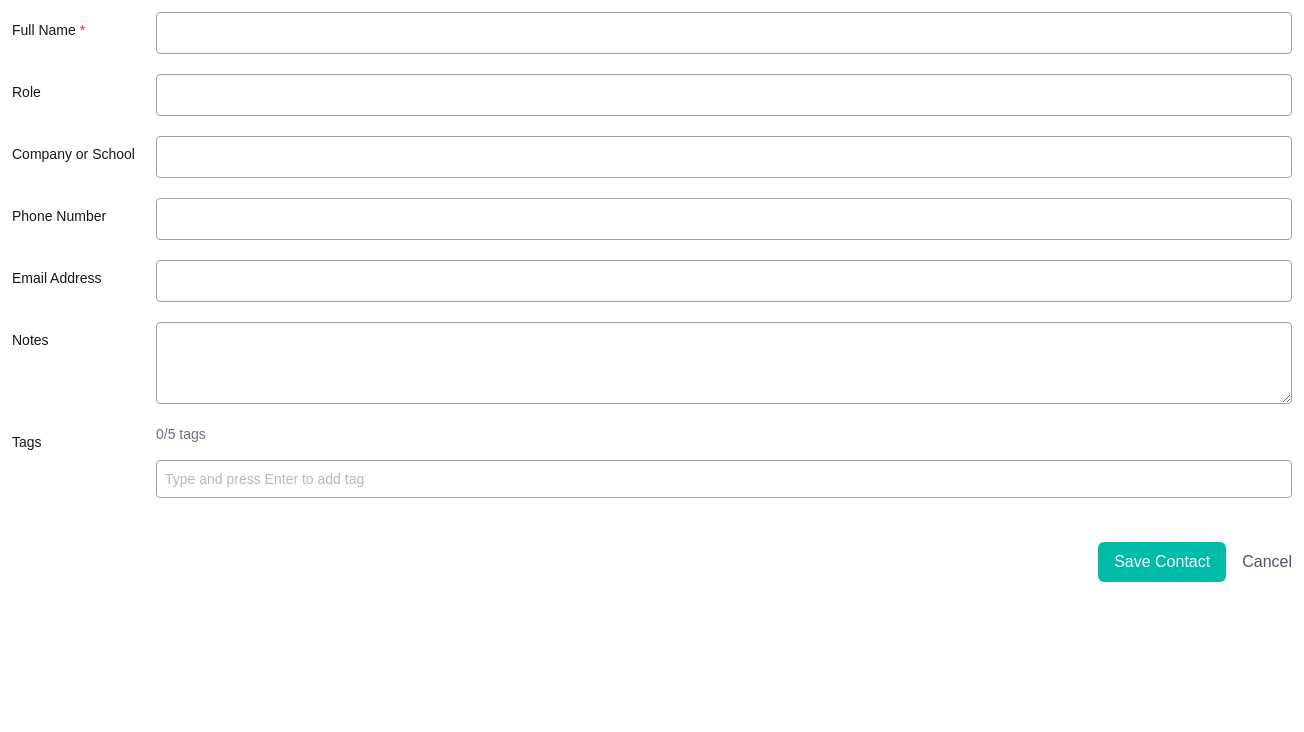
ContactForm › shows validation errors on empty submit
The width and height of the screenshot is (1304, 732).
Click the button "Save Contact": click(1162, 562) [1098, 542, 1226, 582]
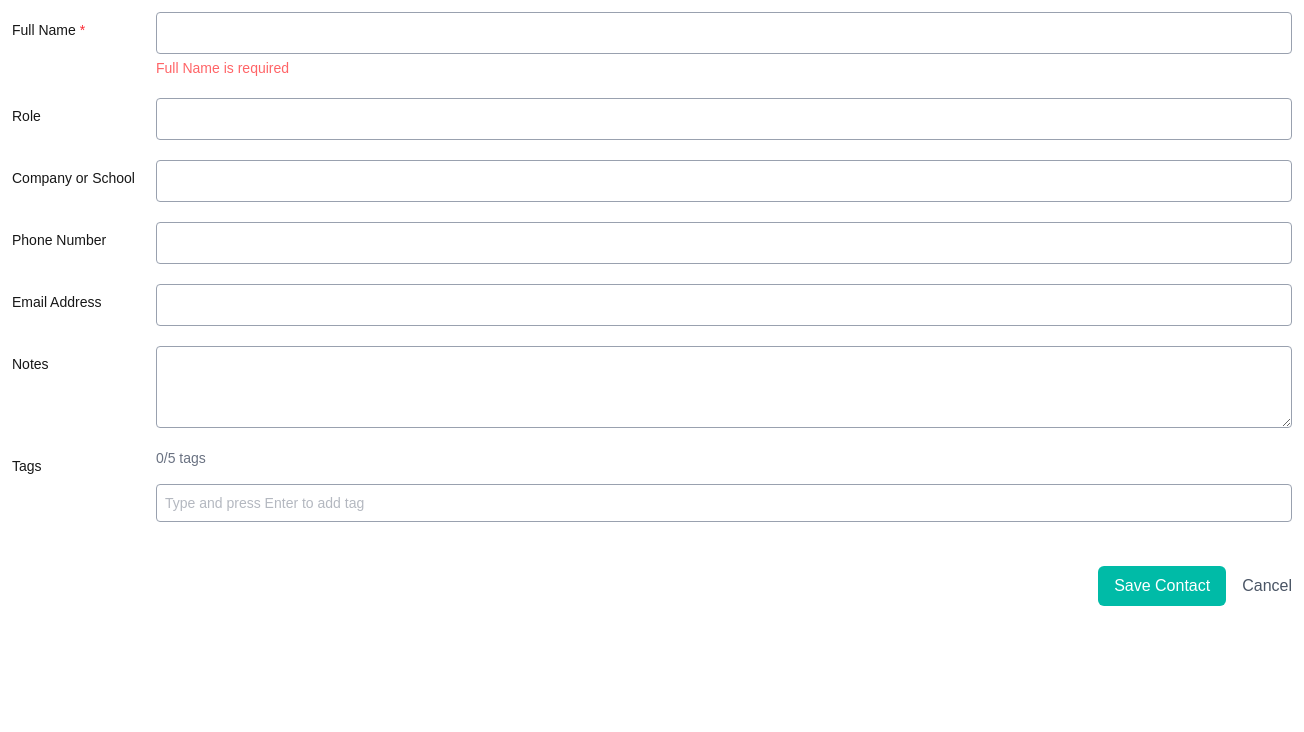
Now the text "Full Name is required" is shown, box [156, 60, 289, 76]
